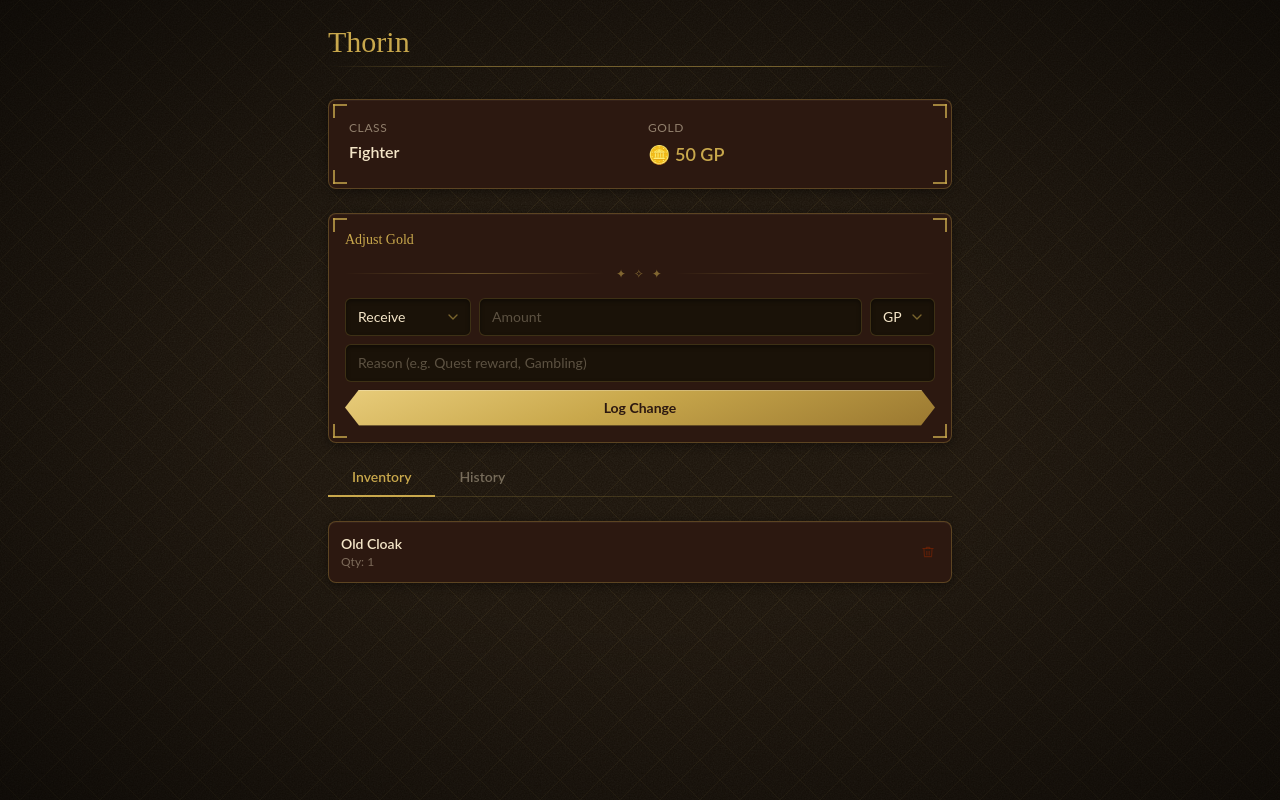
Test: CharacterPage › switching to History tab shows transactions when present
The width and height of the screenshot is (1280, 800).
Click the button "History". click: coordinates (482, 481)
box: [436, 467, 529, 496]
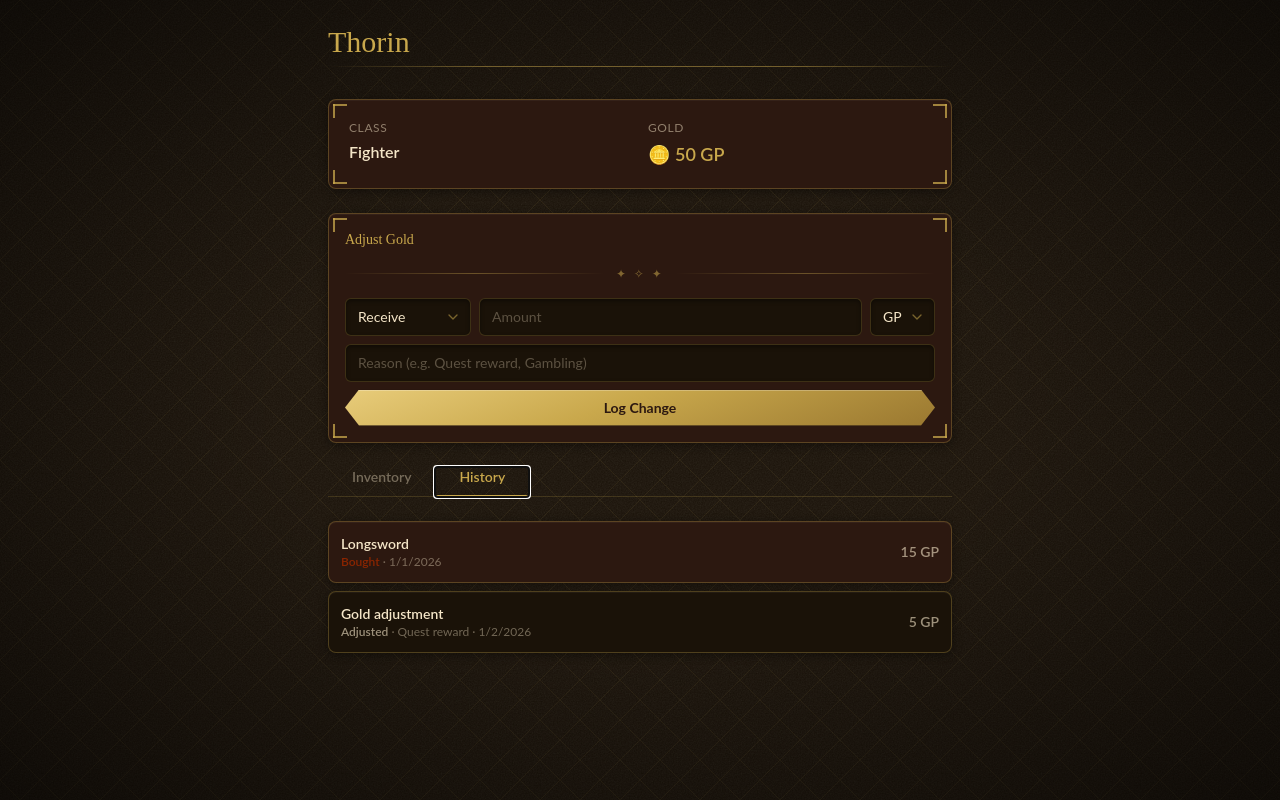
Check: the text "Longsword" is shown, box [341, 535, 409, 552]
Check: the text "Quest reward" is shown, box [388, 624, 469, 639]
